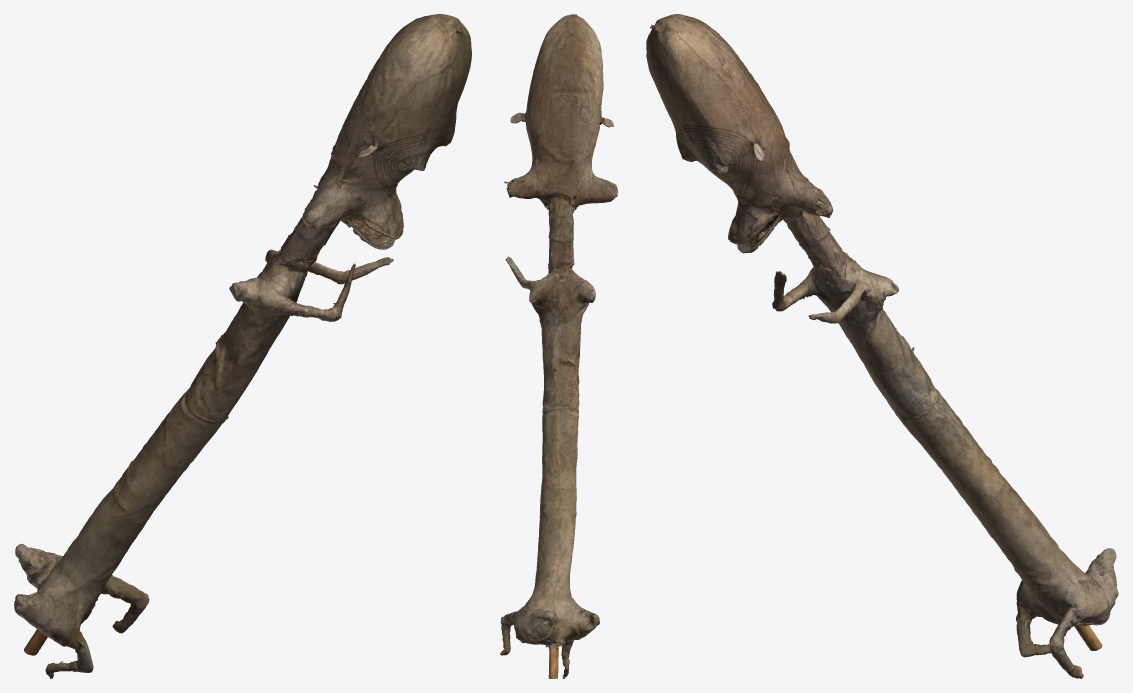
File: preview.glb
3 renders of one model, left to right at view 1: azimuth 30°, elevation 25°; view 2: azimuth 150°, elevation 25°; view 3: azimuth 270°, elevation 25°, orthographic. The views are drawn at different scales.
Parts seen in each view (by area): view 1: Group_Global_n3d; view 2: Group_Global_n3d; view 3: Group_Global_n3d.
Boxes of the visible parts, <box> form: Group_Global_n3d: <box>14,14,471,678</box>; Group_Global_n3d: <box>500,14,617,678</box>; Group_Global_n3d: <box>646,14,1118,678</box>.
Size of the model in its own units: 1.38 by 3.61 by 2.1.
Materials: 1 (1 with a texture image).
